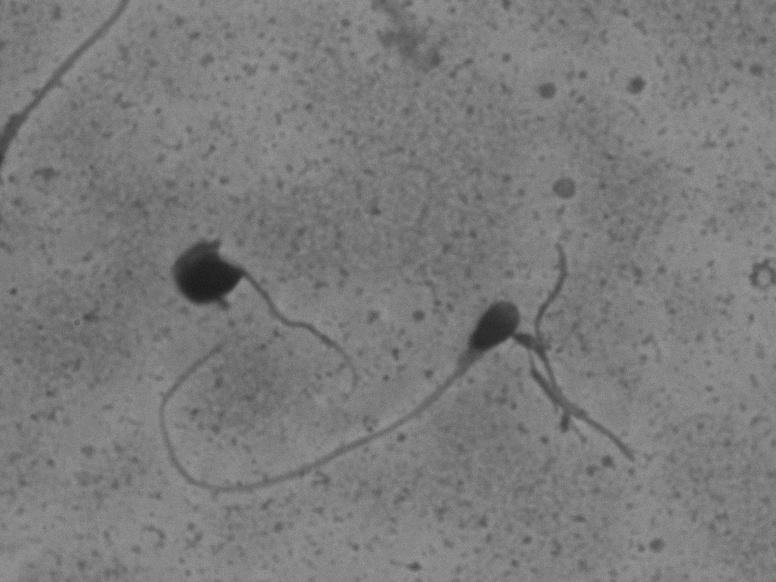Abnormal: (130, 277, 530, 528), (135, 196, 341, 352)
